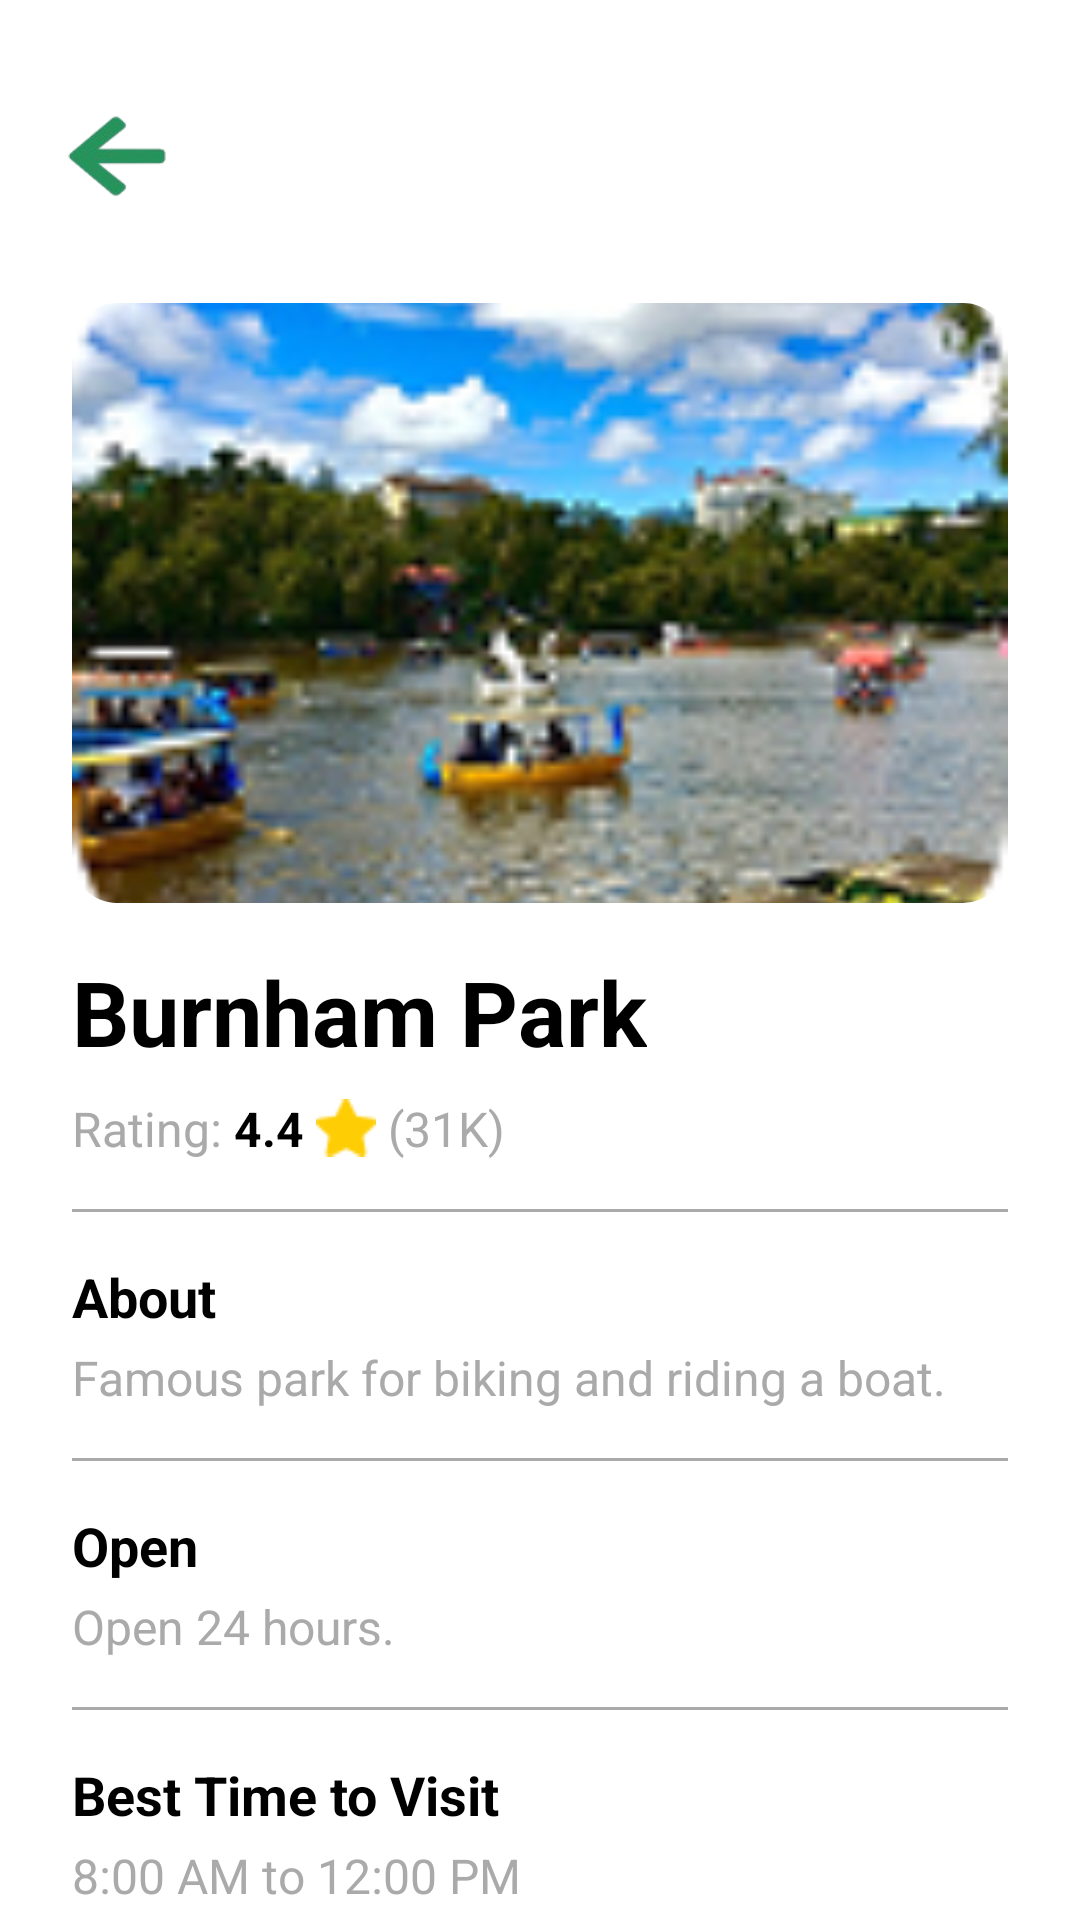

Screen size 1080*1920. Icon name, then its box in pixels as (x1, y1, x2, y2):
Back: (68, 116, 166, 196)
star: (316, 1099, 376, 1157)
